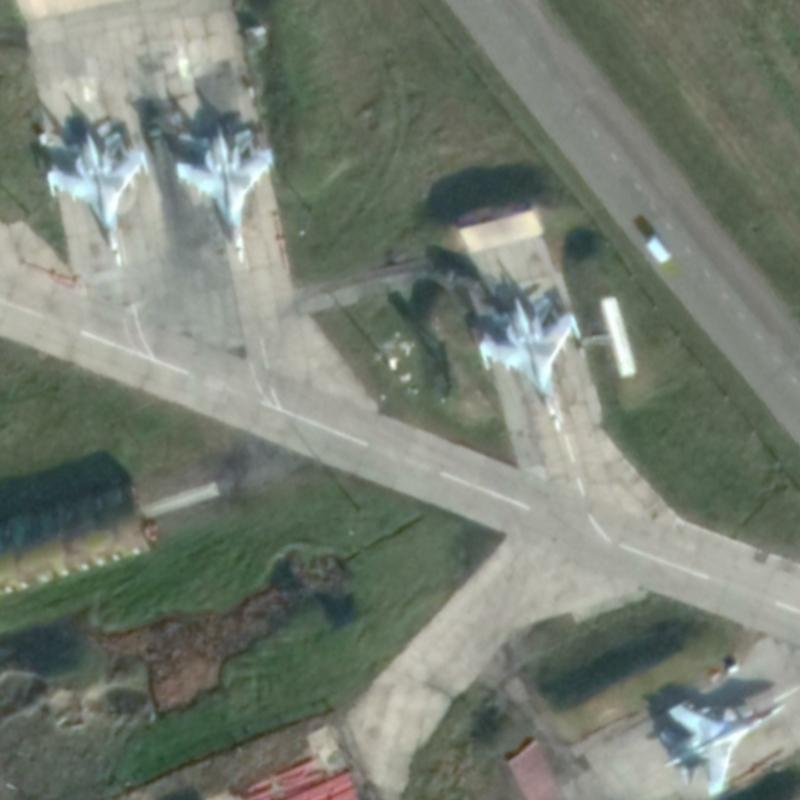A1: (475, 293, 587, 435), (171, 119, 276, 265), (44, 128, 151, 269), (655, 696, 791, 799)
